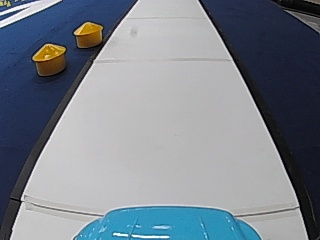granary: (30, 41, 66, 76), (70, 19, 103, 48)
